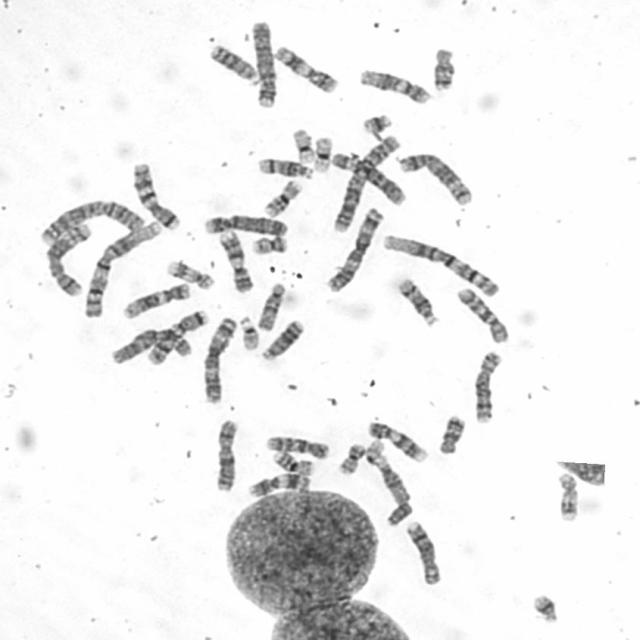A1: (83, 222, 163, 319), (381, 234, 502, 298)
A2: (332, 133, 403, 233), (36, 200, 148, 248)
A3: (324, 206, 386, 294), (202, 316, 236, 404)
B4: (249, 20, 278, 109), (204, 214, 289, 238)
B5: (398, 150, 475, 208), (44, 222, 92, 296)
C10: (454, 286, 512, 348), (264, 434, 330, 460)
C11: (273, 45, 340, 94), (244, 472, 314, 498)
C12: (358, 68, 432, 107), (120, 280, 192, 320)
C6: (331, 150, 407, 208), (110, 326, 195, 366)
C7: (146, 308, 210, 367), (131, 161, 182, 230)
C8: (402, 518, 445, 589), (472, 349, 503, 427)
C9: (368, 420, 430, 463), (216, 227, 255, 295)
D13: (208, 44, 262, 87), (260, 319, 304, 362)
D14: (394, 276, 440, 329), (257, 157, 315, 180)
D15: (255, 280, 289, 332), (375, 458, 411, 506)
E16: (260, 178, 304, 219), (271, 449, 315, 477)
E17: (164, 258, 217, 290), (554, 470, 580, 524)
E18: (436, 413, 466, 458), (432, 47, 459, 91)
F19: (290, 127, 316, 165), (312, 136, 332, 174)
F20: (337, 442, 365, 477), (253, 236, 291, 256)
G21: (528, 592, 560, 625), (361, 114, 393, 135)
G22: (364, 439, 390, 467), (239, 315, 259, 351)
X: (213, 414, 241, 494)
Y: (385, 501, 414, 528)
